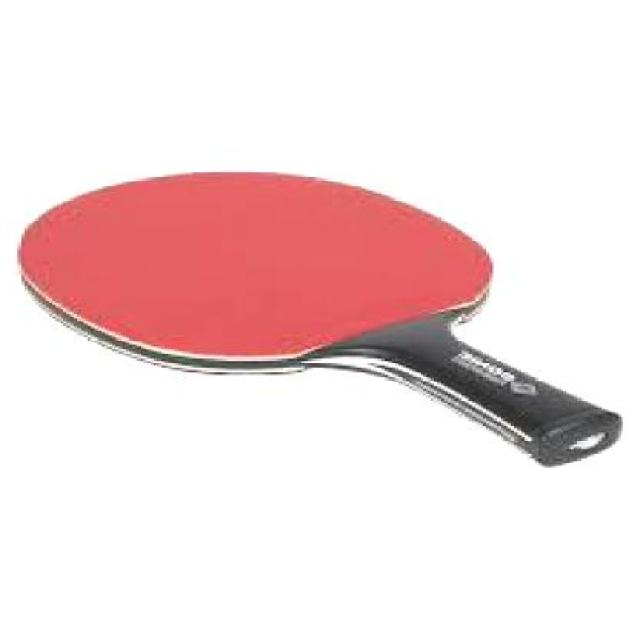table_tennis_racket: (8, 168, 508, 380)
